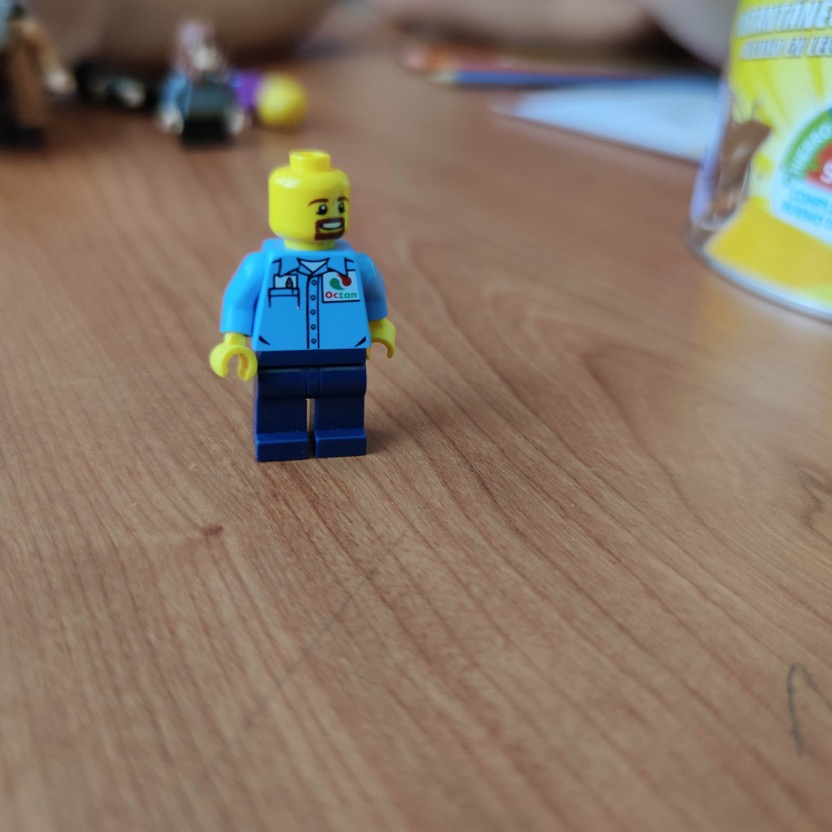lego: (209, 149, 398, 461)
